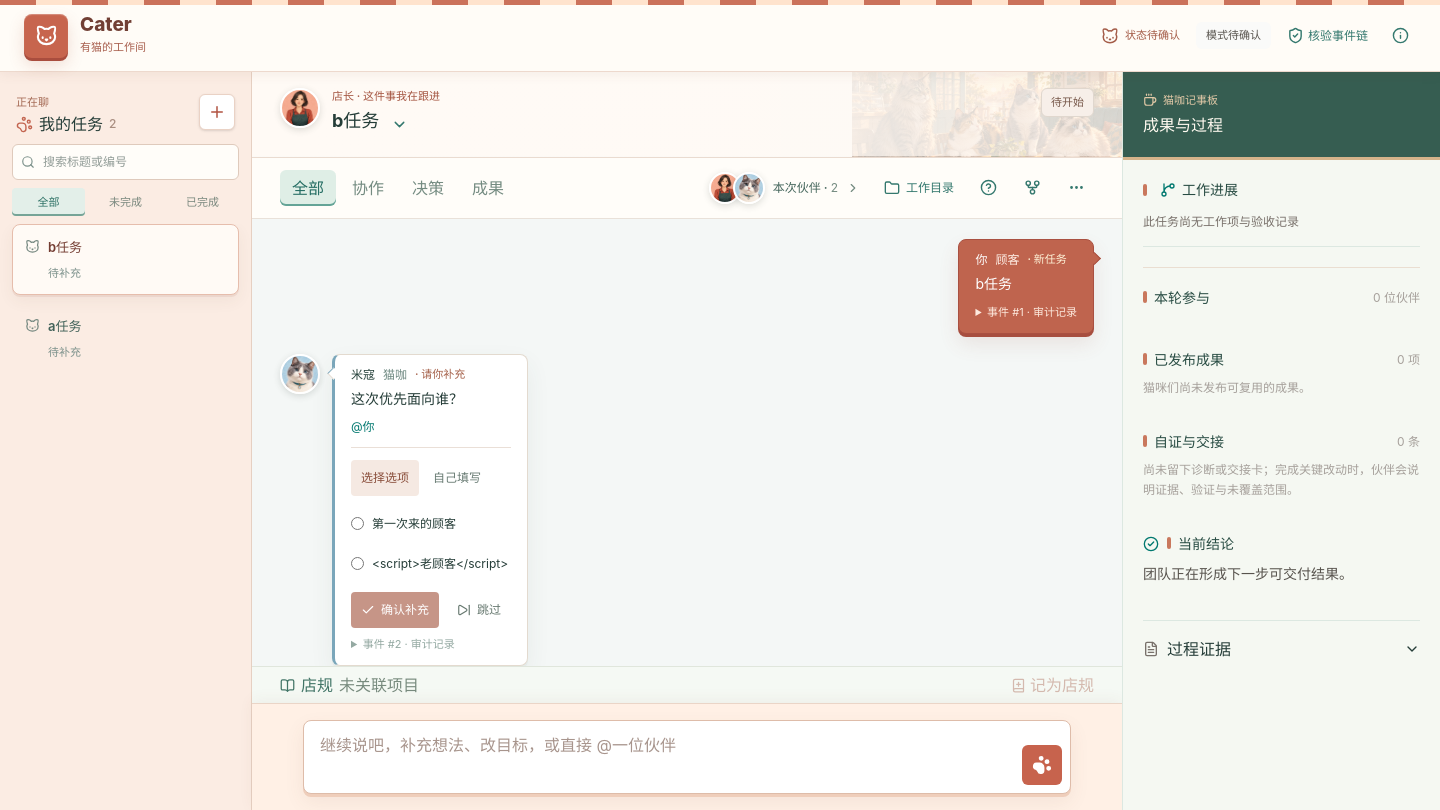
Scenario: 澄清发送挂起正文后解锁，保留答案与 request_id，只由用户手动重试
This screenshot has width=1440, height=810.
Click the radio button labelled "第一次来的顾客" at (358, 524), box [351,517,364,530]
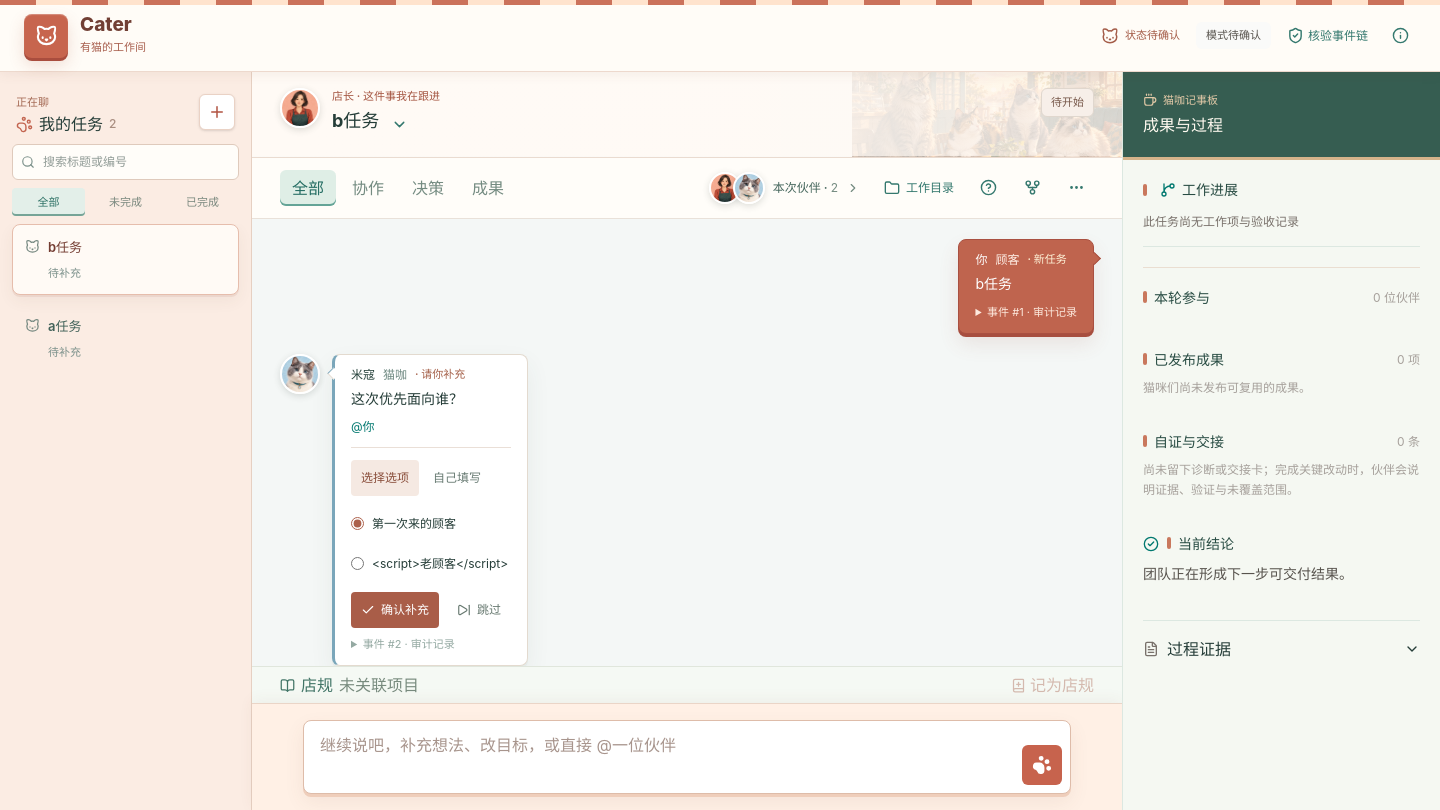
Click the button "确认补充" at (395, 610), box [351,592,439,628]
Wait 30000 ms
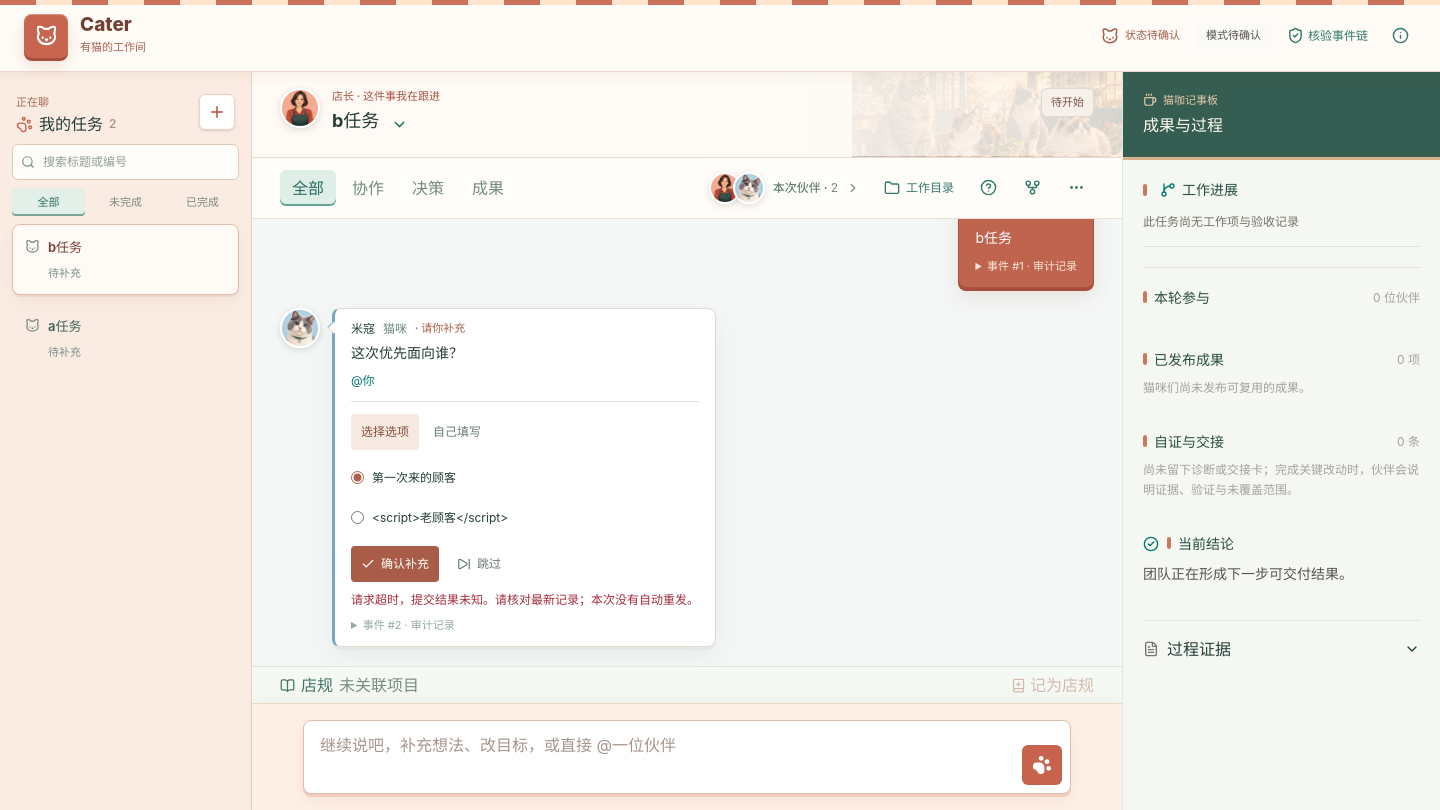
Expected: the radio button labelled "第一次来的顾客" is checked, [351,471,364,484]
Expected: the message shows "提交结果未知", [351,592,699,607]
Click the button "确认补充" at (395, 564), box [351,546,439,582]
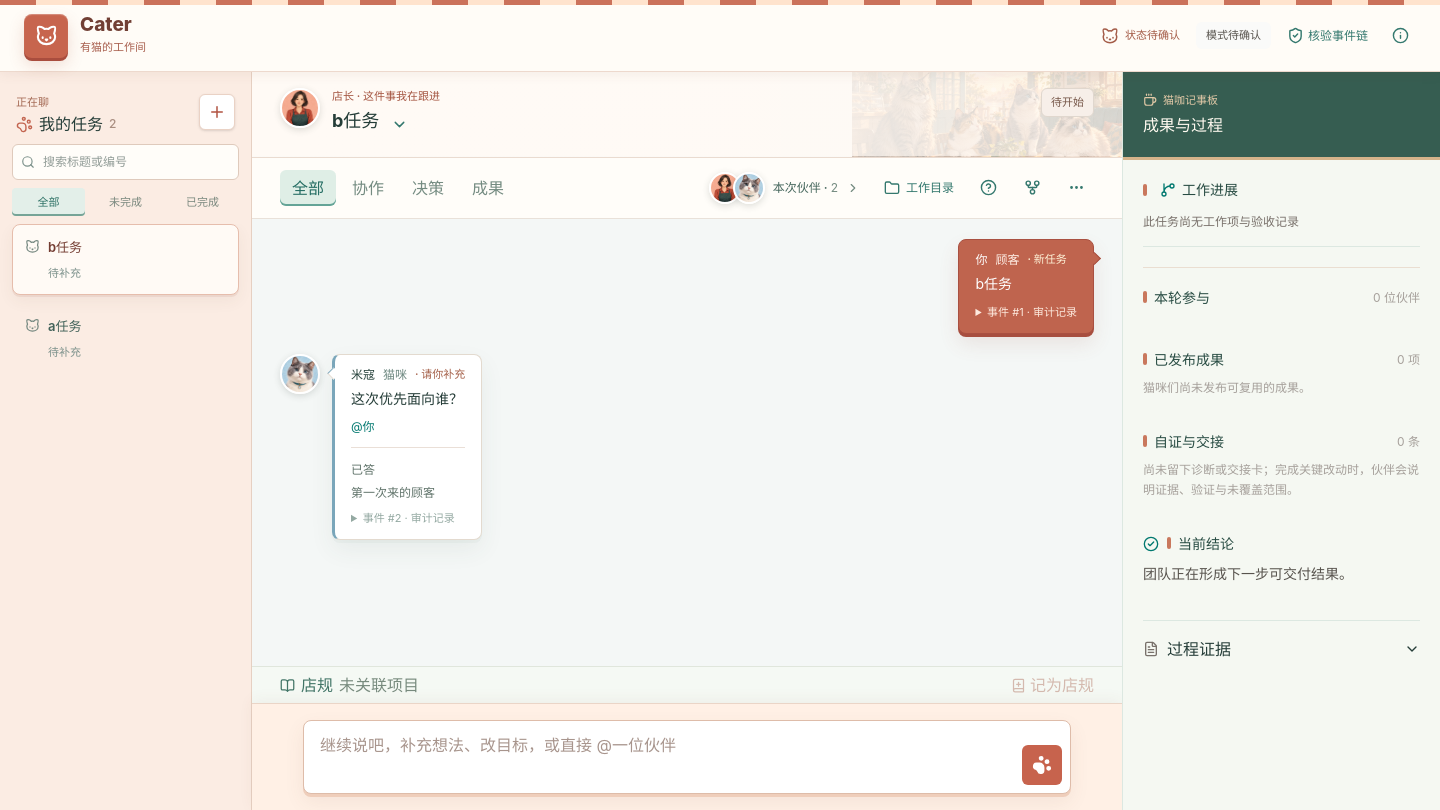
Expected: the text "已答" is shown, [351,462,375,477]
Expected: the form is gone
